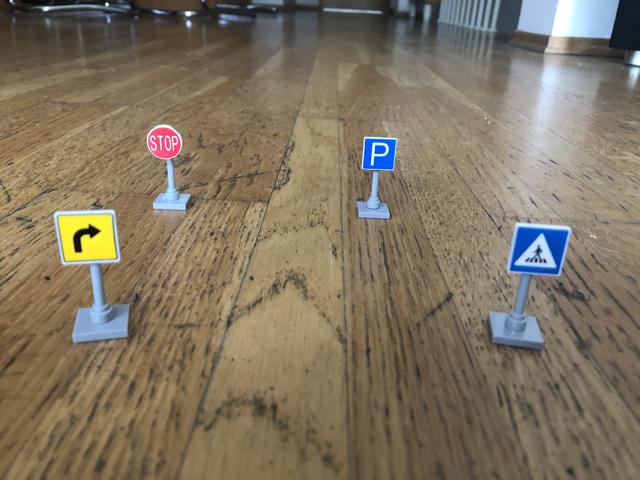fahrtrichtung rechts: (54, 207, 122, 267)
fußgängerüberweg: (504, 219, 573, 279)
parken: (359, 135, 398, 173)
stop: (143, 124, 184, 162)
